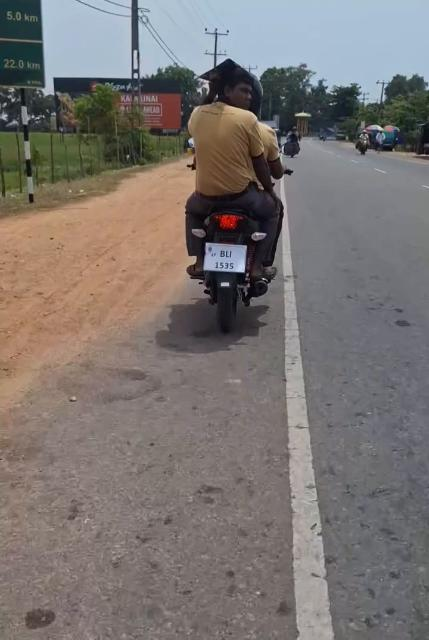no helmet: (210, 60, 263, 115)
number plate: (190, 244, 255, 279)
